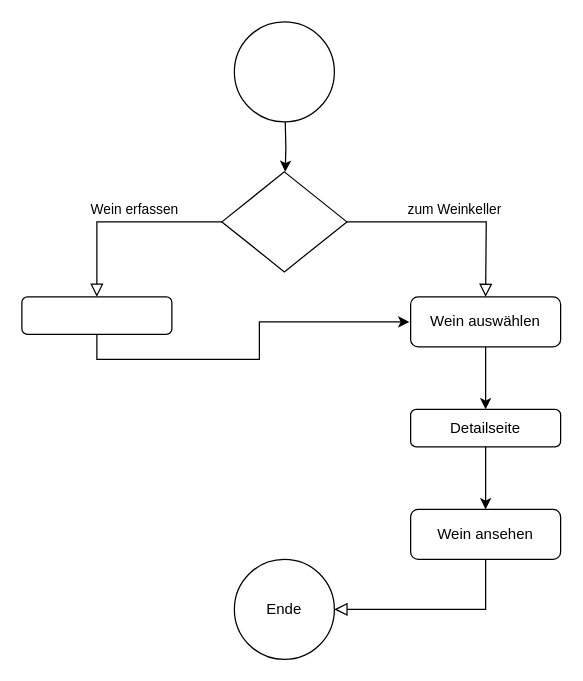
This 583x681 diagram has some shape labels left out. Here are the shapes that lost their labels. From the top down, the centre of each, then its label:
At pixel 283 71: "Start App".
At pixel 96 315: "Formular ausfüllen".
